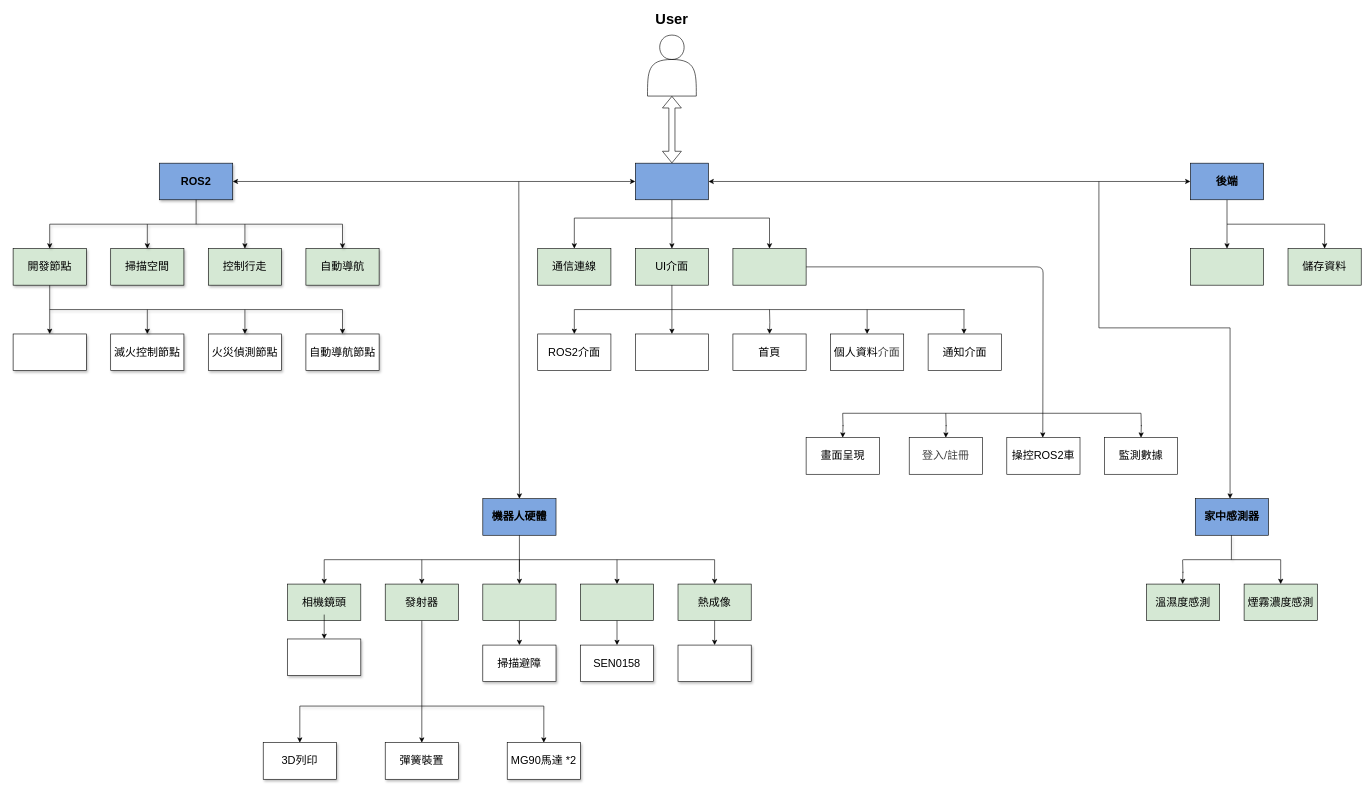
This 1372x794 diagram has some shape labels left out. Here are the shapes that lost their labels. From the top down, the centre of each, then its label:
the point at 672,181: 網頁/APP
the point at 769,266: 系統功能
the point at 1227,266: MongoDB
the point at 50,353: 操控節點
the point at 672,352: 登入介面
the point at 519,602: Lidar
the point at 617,602: 火焰測距模組
the point at 324,658: 偵測火焰
the point at 715,664: AMG8833
